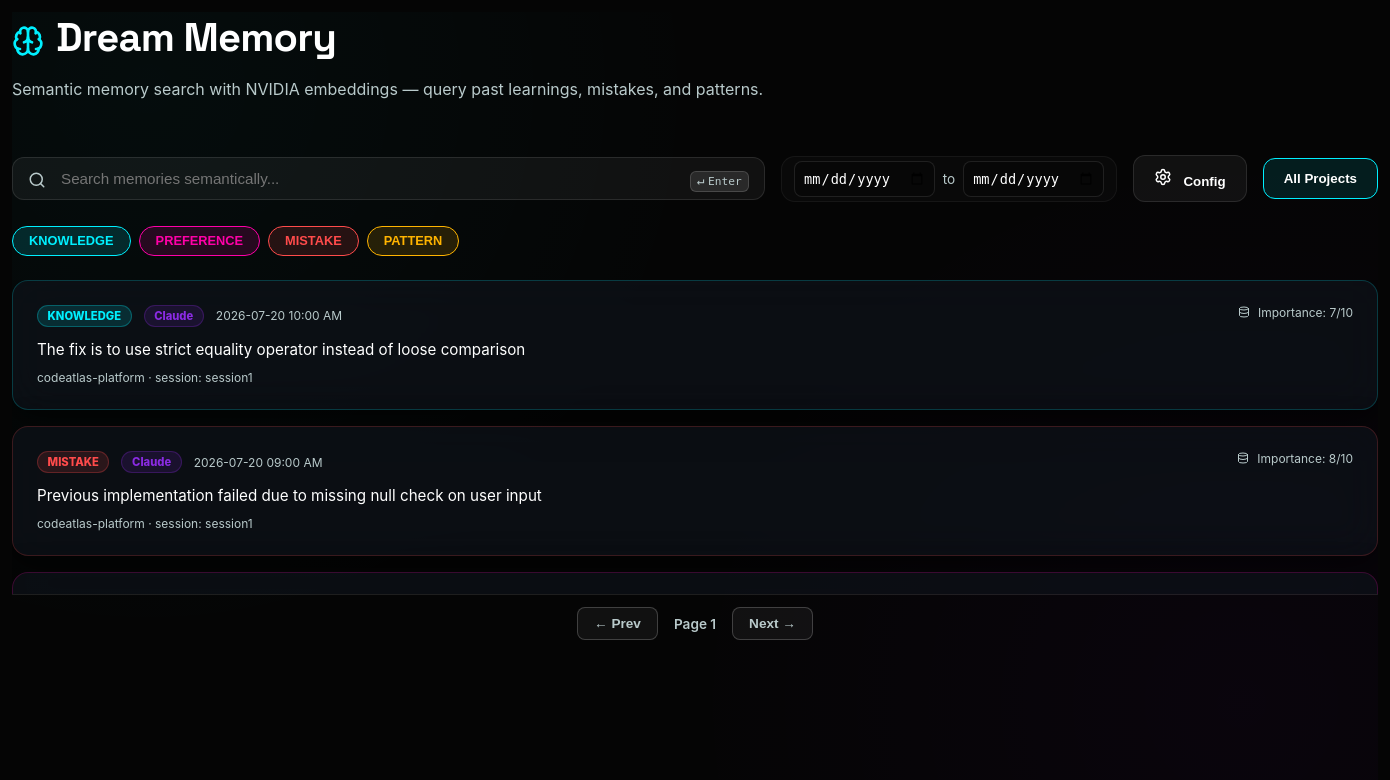
Test: DreamMemoryView › surfaces Save Config failures in the config panel
Expected: the text "The fix is to use strict equality operator instead of loose comparison" is shown, [37,340,525,359]
Step 1. Click the button "Config" → (1190, 178), box [1133,155,1247,202]
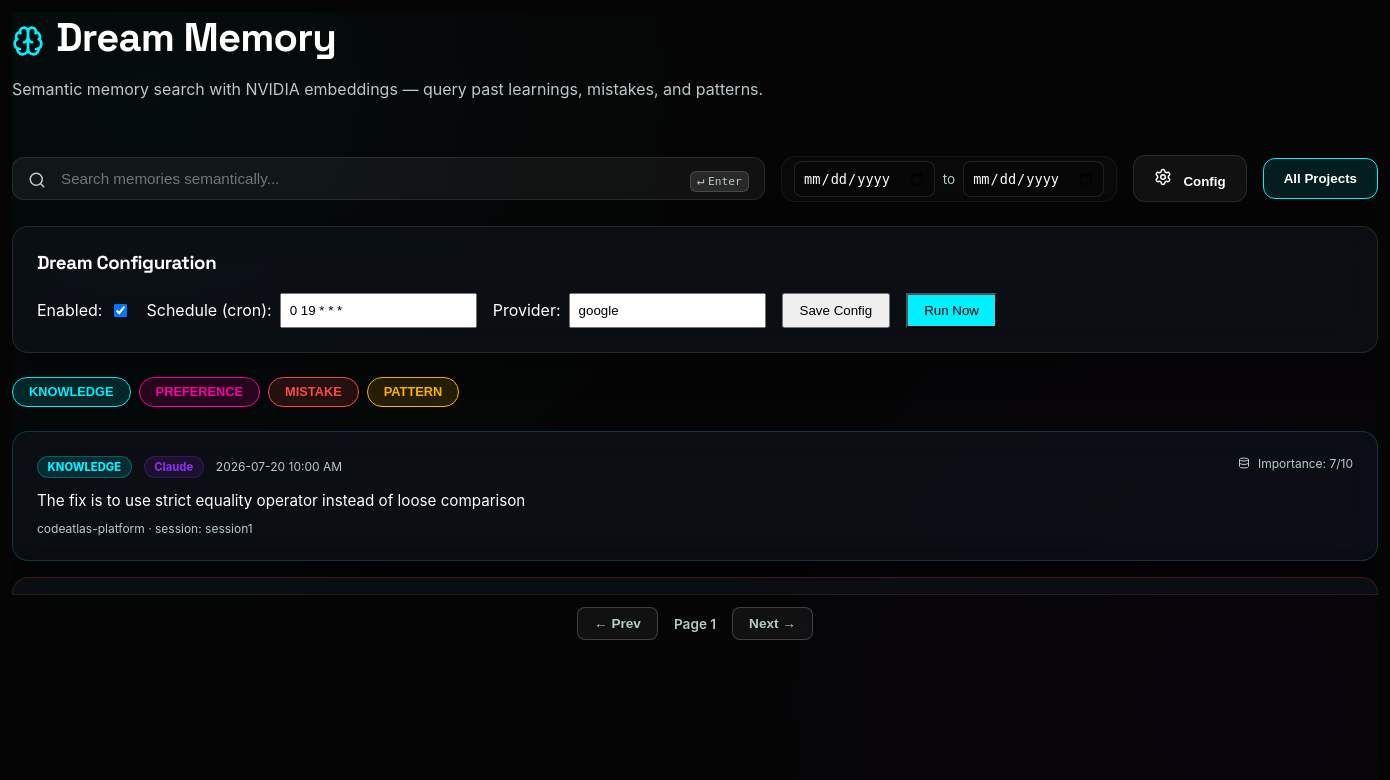
Step 2. Click the button "Save Config" → (836, 310), box [782,293,890,328]
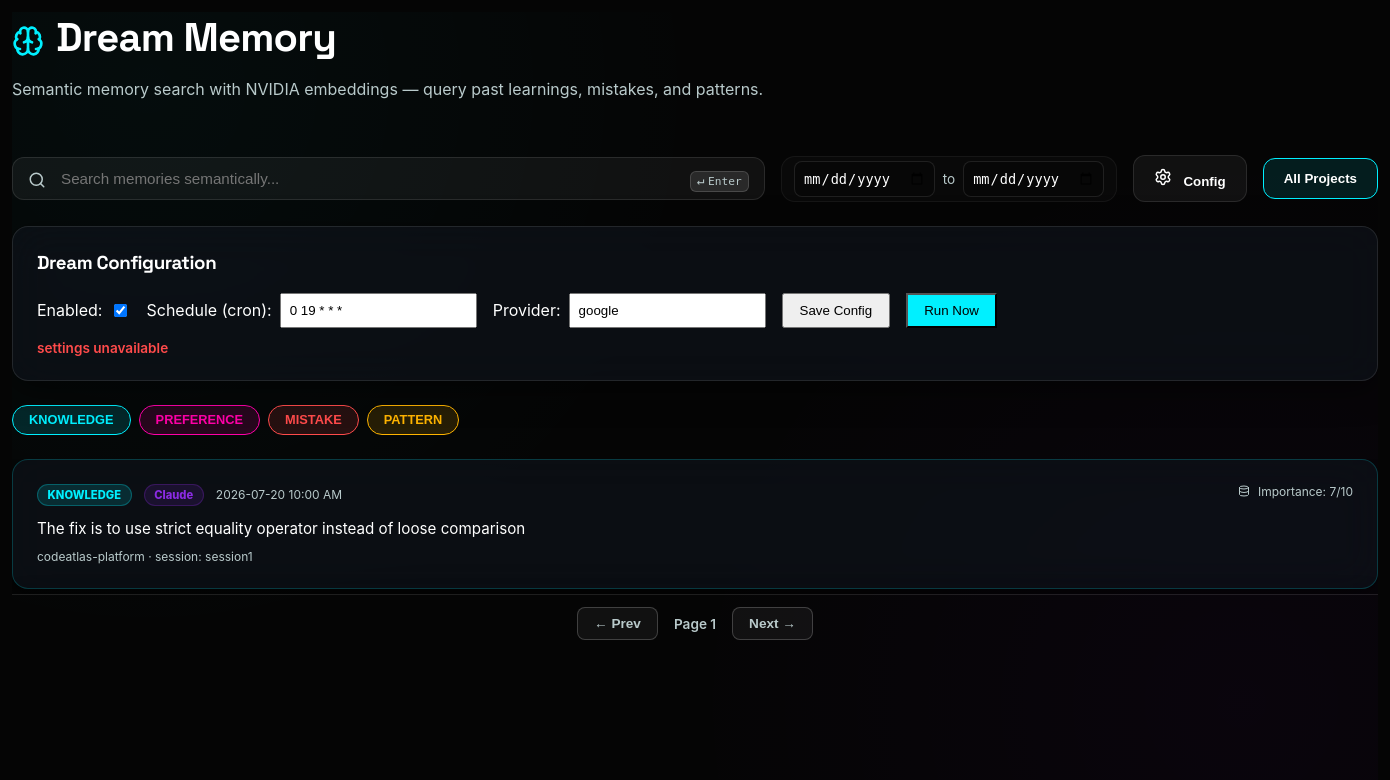
Expected: the button "Save Config" is enabled, [782,293,890,328]
Expected: the message reads "settings unavailable", [37,340,168,356]
